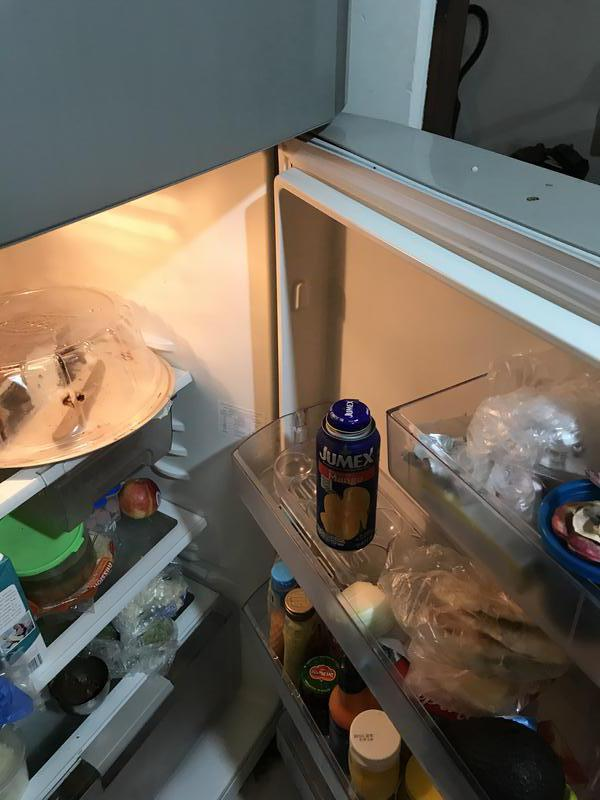jugo_jumex: (315, 398, 379, 550)
